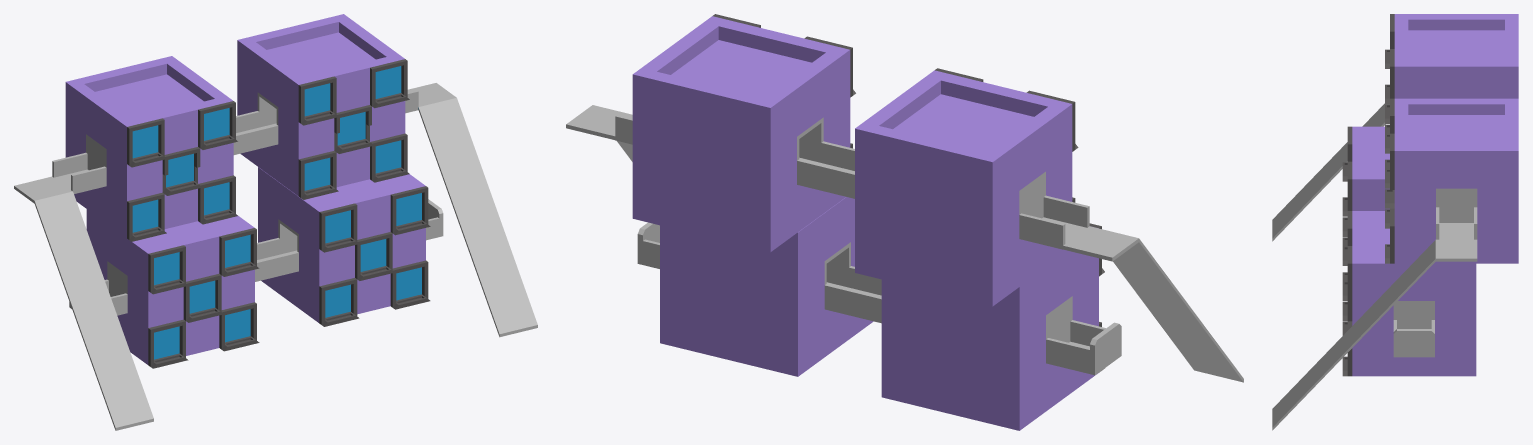
The model's file is Rubix cube purple.fbx.
The picture shows the model from 3 angles, left to right: view 1: azimuth 30°, elevation 25°; view 2: azimuth 150°, elevation 25°; view 3: azimuth 270°, elevation 25°; orthographic projection. The views are drawn at different scales.
Parts seen in each view (by area): view 1: Cube.002; view 2: Cube.002; view 3: Cube.002.
Boxes of the visible parts, x1,y1,x2,y2 form: Cube.002: (14,14,537,430); Cube.002: (566,14,1243,430); Cube.002: (1272,14,1518,430).
Bounding box in the file's own units: 29355 × 16083 × 14701.
